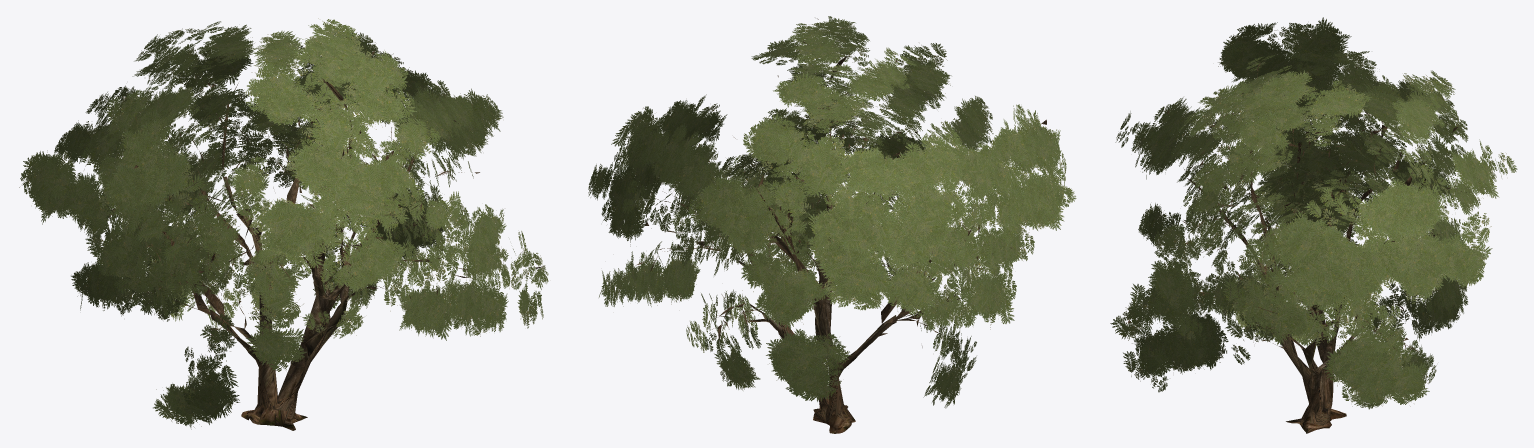
File: jacaranda_tree.glb
The picture shows the model from 3 angles, left to right: view 1: azimuth 30°, elevation 25°; view 2: azimuth 150°, elevation 25°; view 3: azimuth 270°, elevation 25°; orthographic projection. The views are drawn at different scales.
Parts seen in each view (by area): view 1: jacaranda_tree_LOD0; view 2: jacaranda_tree_LOD0; view 3: jacaranda_tree_LOD0.
Boxes of the visible parts, left/top/right/bottom form: jacaranda_tree_LOD0: left=19, top=18, right=548, bottom=430; jacaranda_tree_LOD0: left=588, top=16, right=1076, bottom=433; jacaranda_tree_LOD0: left=1110, top=17, right=1517, bottom=433.
Bounding box in the file's own units: 24.83 × 19.85 × 20.01.
3 materials, 3 textured.
